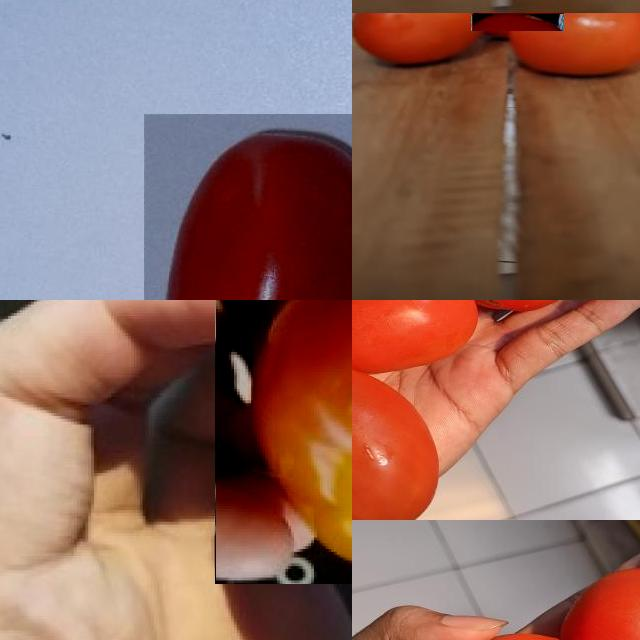0: (215, 300, 352, 584)
Fresh Tomato: (144, 114, 352, 300), (511, 13, 640, 82), (352, 13, 486, 66), (471, 13, 564, 31), (584, 13, 640, 42)
